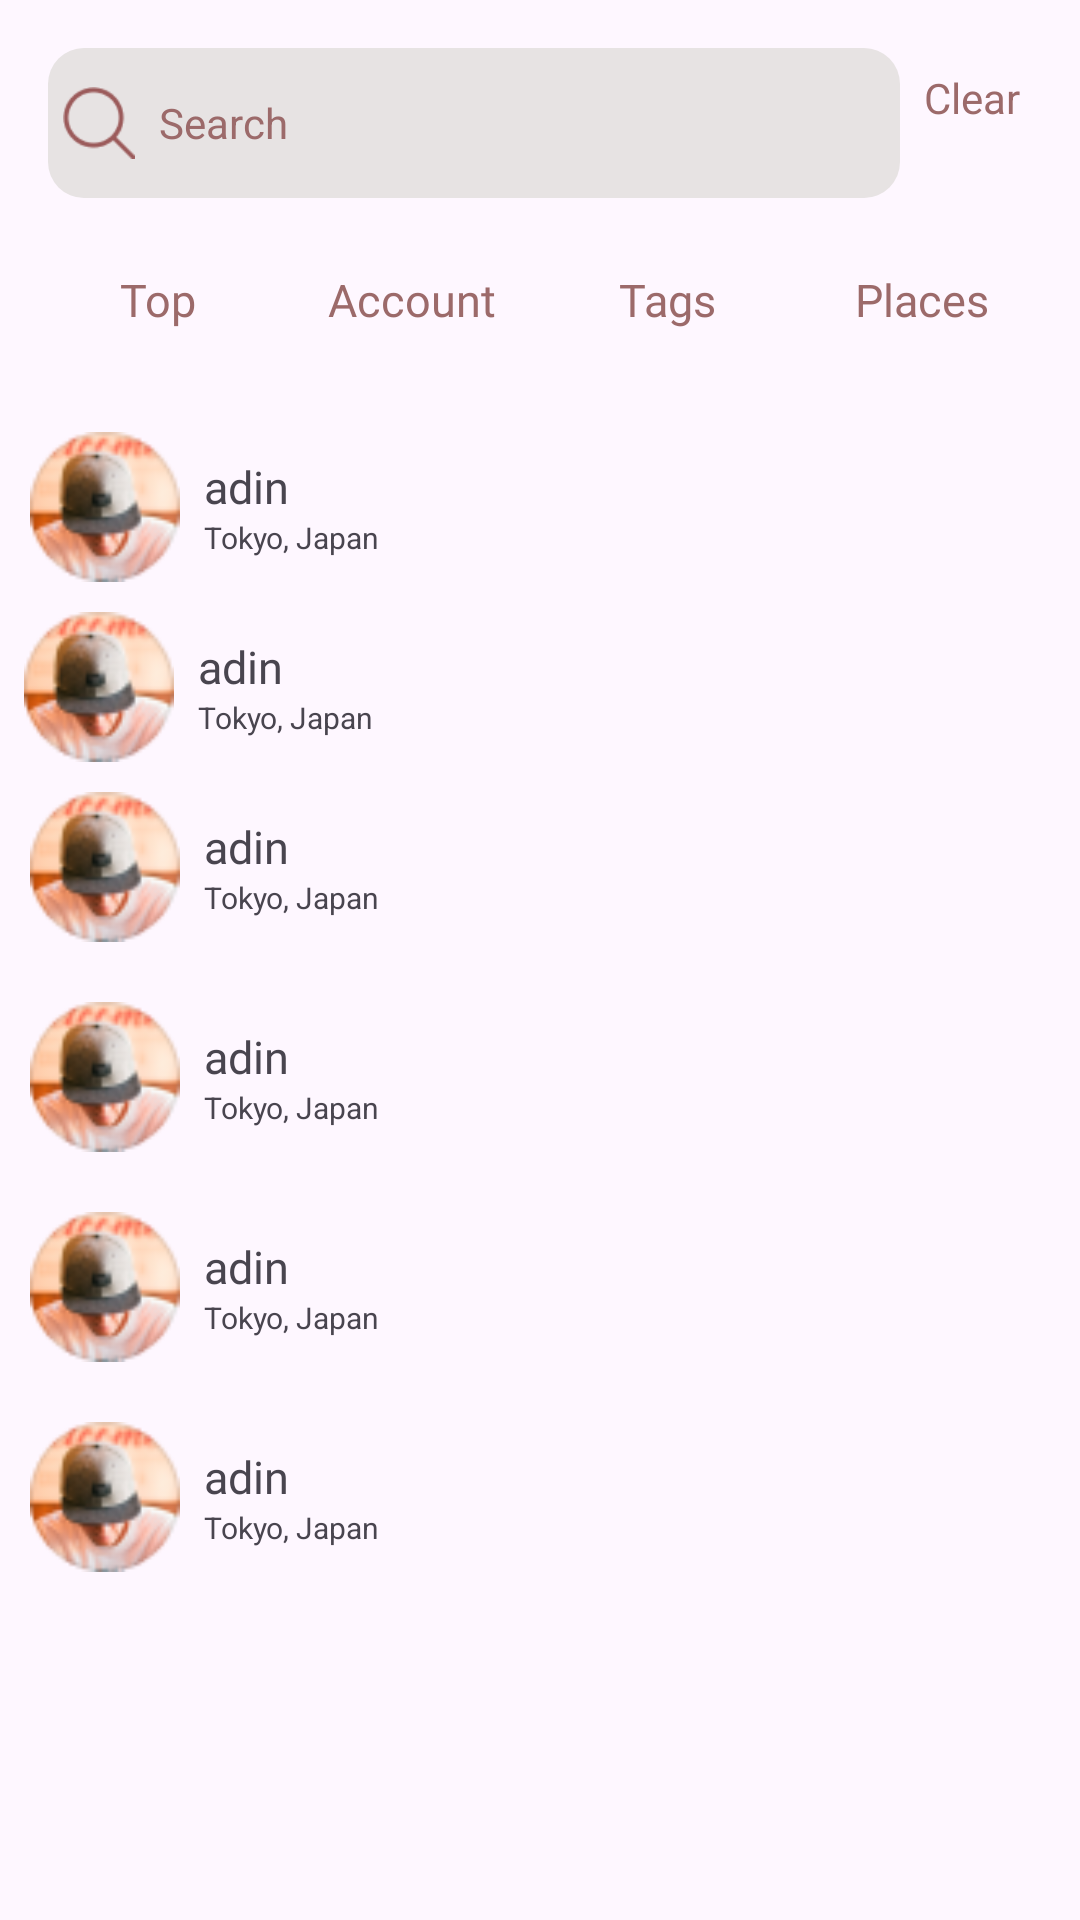

Named icons in this screenshot (1080px x 1920px) and their centers, (x,y):
profilepicture: (105,507), (99,687), (105,867), (105,1077), (105,1287), (105,1497)
